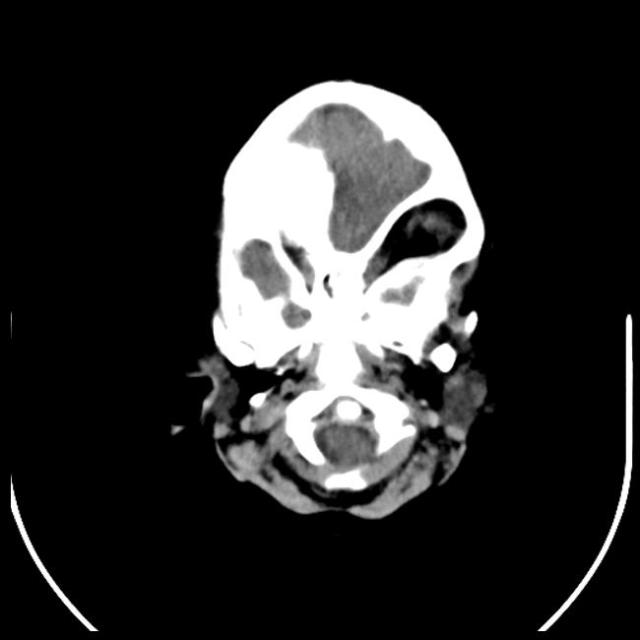lesion: (232, 236, 340, 368)
